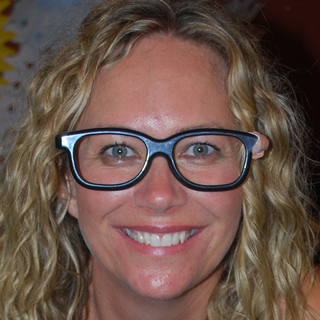eye: (182, 139, 226, 162), (95, 141, 139, 164)
